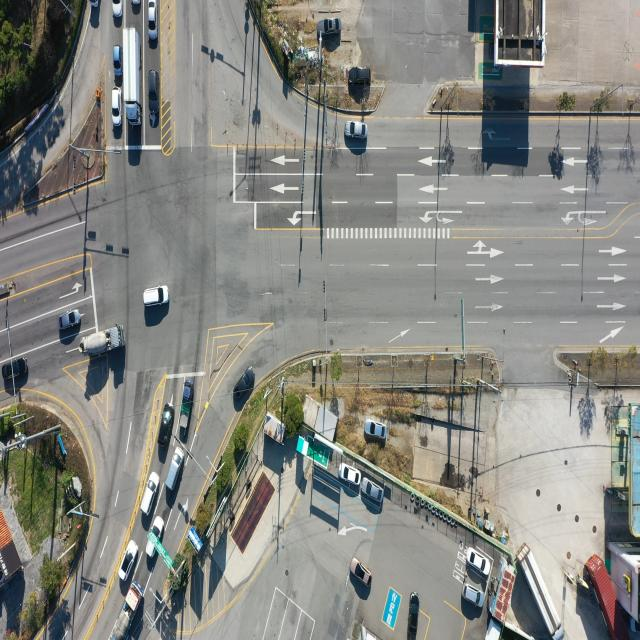car: (139, 472, 159, 516), (167, 445, 186, 491), (146, 516, 165, 562), (120, 539, 140, 581), (232, 365, 254, 398), (147, 69, 159, 127), (157, 406, 173, 448), (2, 356, 28, 381), (469, 548, 492, 576), (351, 558, 372, 588), (462, 584, 484, 610), (363, 480, 385, 505), (59, 309, 82, 331), (145, 286, 170, 306), (340, 462, 362, 484), (364, 419, 385, 440), (147, 1, 157, 43), (410, 593, 421, 630), (345, 120, 366, 137), (349, 65, 370, 82), (112, 88, 121, 126), (321, 19, 340, 35), (113, 45, 121, 76), (112, 0, 123, 17)
medium_truck: (521, 543, 566, 637), (113, 581, 144, 640), (78, 326, 122, 360), (126, 29, 141, 126)
small_truck: (180, 376, 193, 436)
